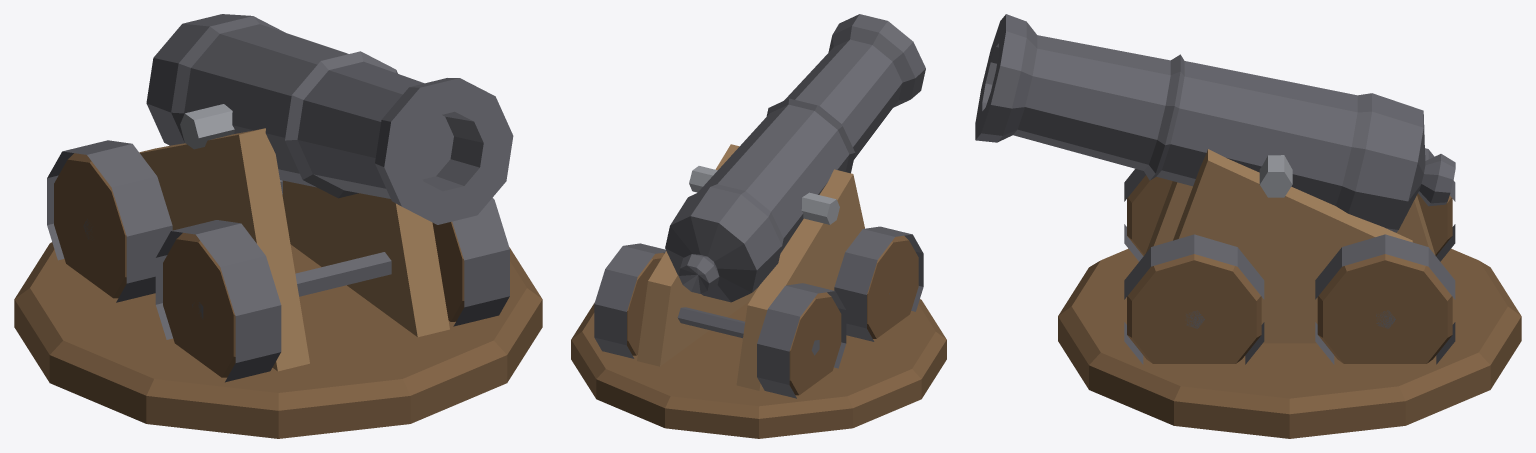
The model's file is cannon_turret_1.glb.
3 views of the same model, side by side, from view 1: azimuth 30°, elevation 25°; view 2: azimuth 150°, elevation 25°; view 3: azimuth 270°, elevation 25° (orthographic). The views are drawn at different scales.
Visible parts, largest first — view 1: Cannon; view 2: Cannon; view 3: Cannon.
Part boxes in pixels (left/top/right/bottom): Cannon: left=14, top=14, right=542, bottom=438; Cannon: left=571, top=14, right=946, bottom=438; Cannon: left=975, top=14, right=1521, bottom=438.
Size of the model in its own units: 1.7 by 1.29 by 2.
